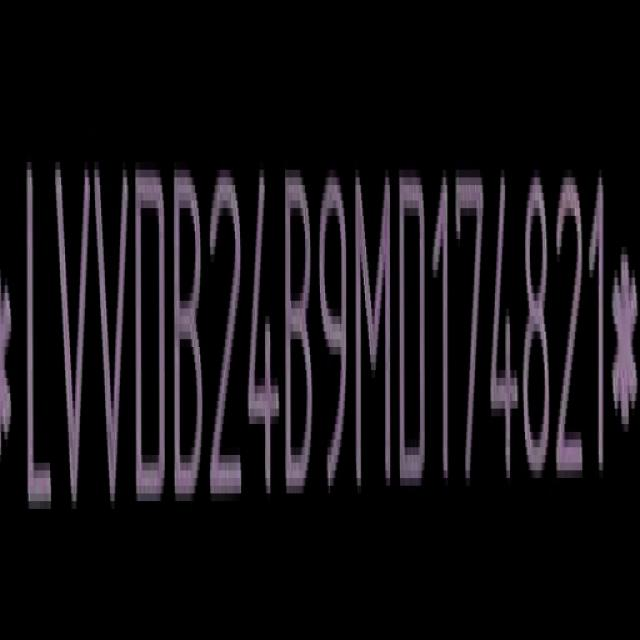1: (430, 171, 452, 500), (587, 174, 609, 471)
2: (205, 154, 245, 508), (556, 171, 586, 500)
4: (248, 157, 282, 511), (490, 160, 521, 488)
7: (455, 163, 484, 511)
8: (520, 165, 552, 486)
9: (317, 165, 350, 506)
B: (281, 163, 315, 511), (171, 154, 204, 511)
D: (131, 149, 168, 511), (397, 166, 429, 494)
L: (22, 128, 53, 528)
M: (353, 154, 393, 497)
V: (92, 143, 129, 520), (55, 143, 91, 511)
